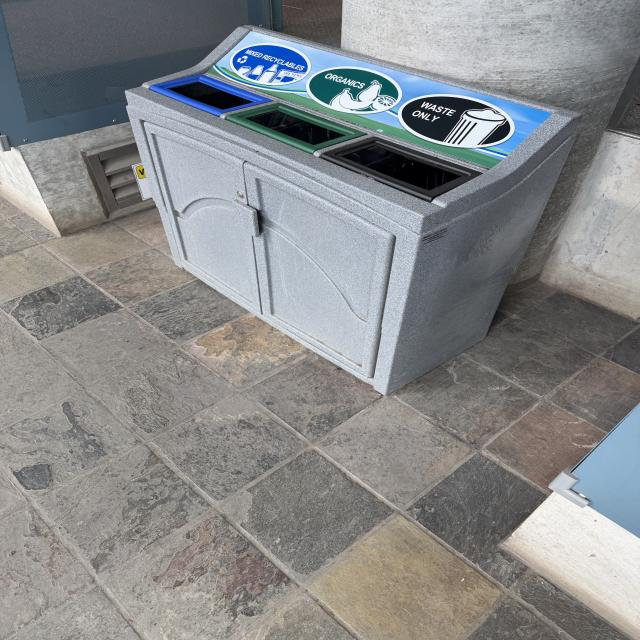Dustbin: (118, 24, 580, 396)
